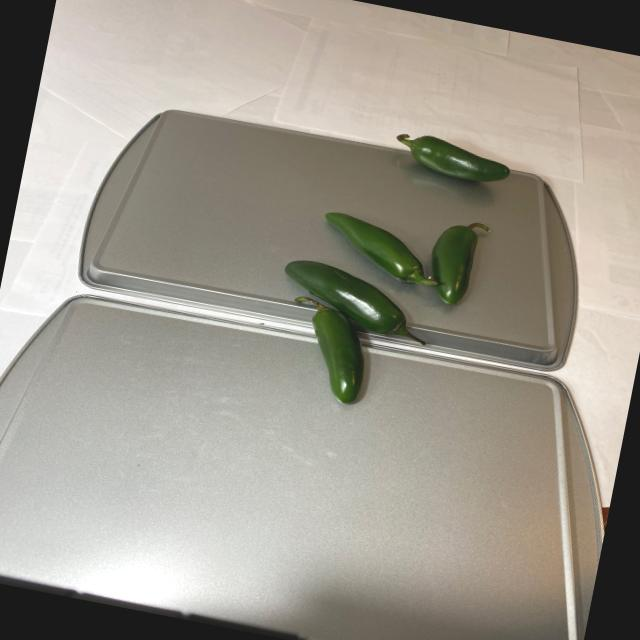chilli: (258, 115, 523, 432)
